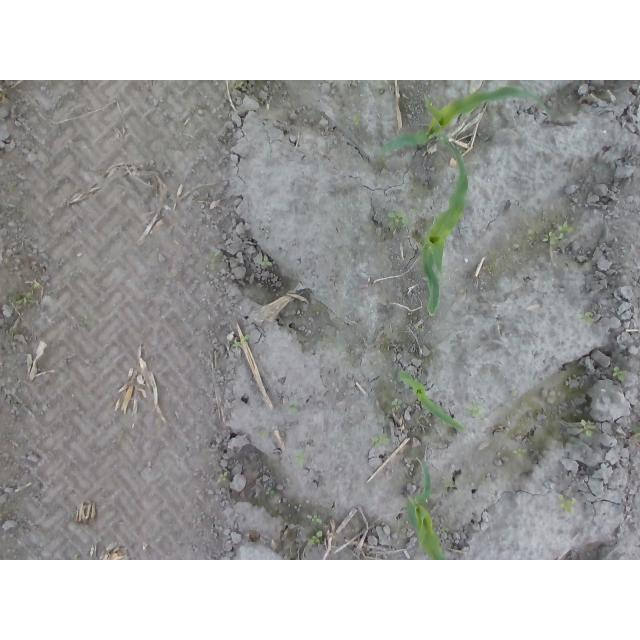Maize: (380, 86, 552, 159), (420, 120, 470, 318), (399, 369, 466, 435), (405, 456, 447, 561)
Weeds: (542, 221, 574, 243), (557, 492, 578, 512), (578, 419, 598, 437), (387, 209, 408, 226), (307, 528, 324, 548), (369, 434, 391, 447), (611, 366, 626, 383), (11, 294, 29, 307), (578, 311, 593, 326), (293, 450, 305, 467), (260, 253, 273, 267), (512, 448, 525, 461), (391, 398, 402, 411), (310, 513, 322, 524), (469, 405, 479, 418), (351, 113, 361, 126), (264, 486, 276, 496), (217, 471, 228, 481), (288, 403, 298, 413)
